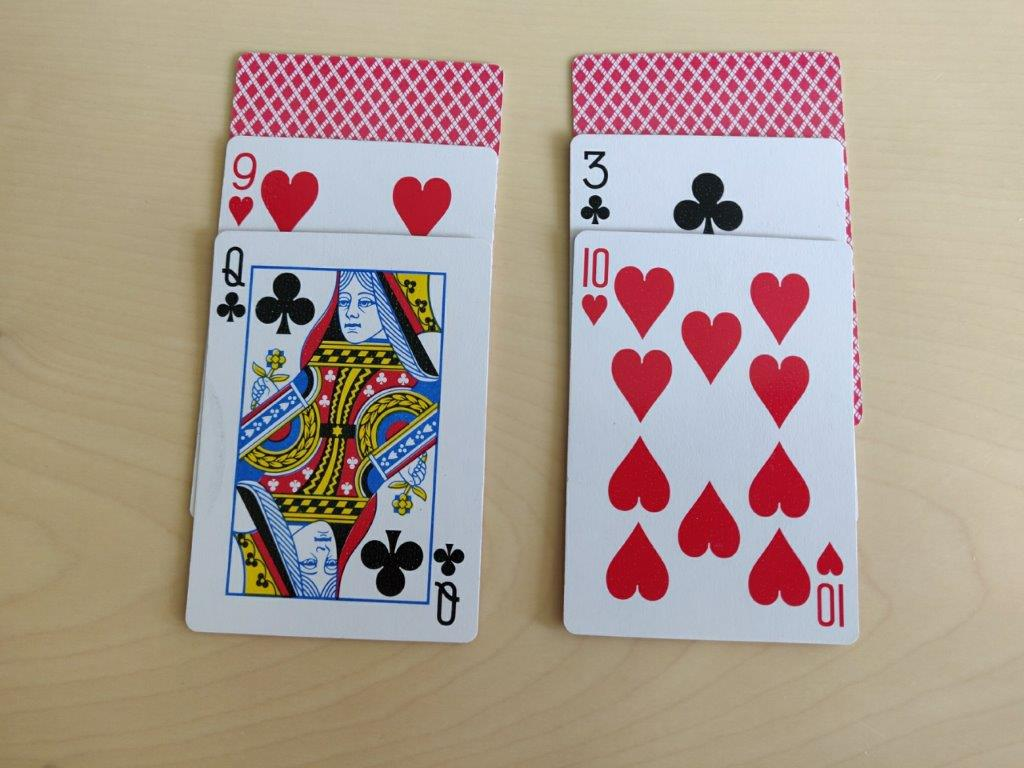10H: (575, 239, 613, 337)
3C: (575, 144, 616, 229)
9H: (226, 147, 261, 232)
BACK: (235, 51, 510, 146), (568, 49, 851, 140)
QC: (215, 241, 252, 335)
